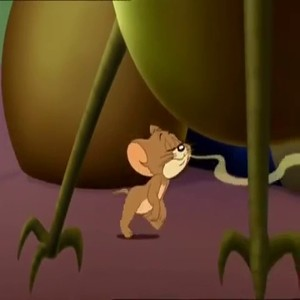Jerry: (115, 117, 194, 244)
